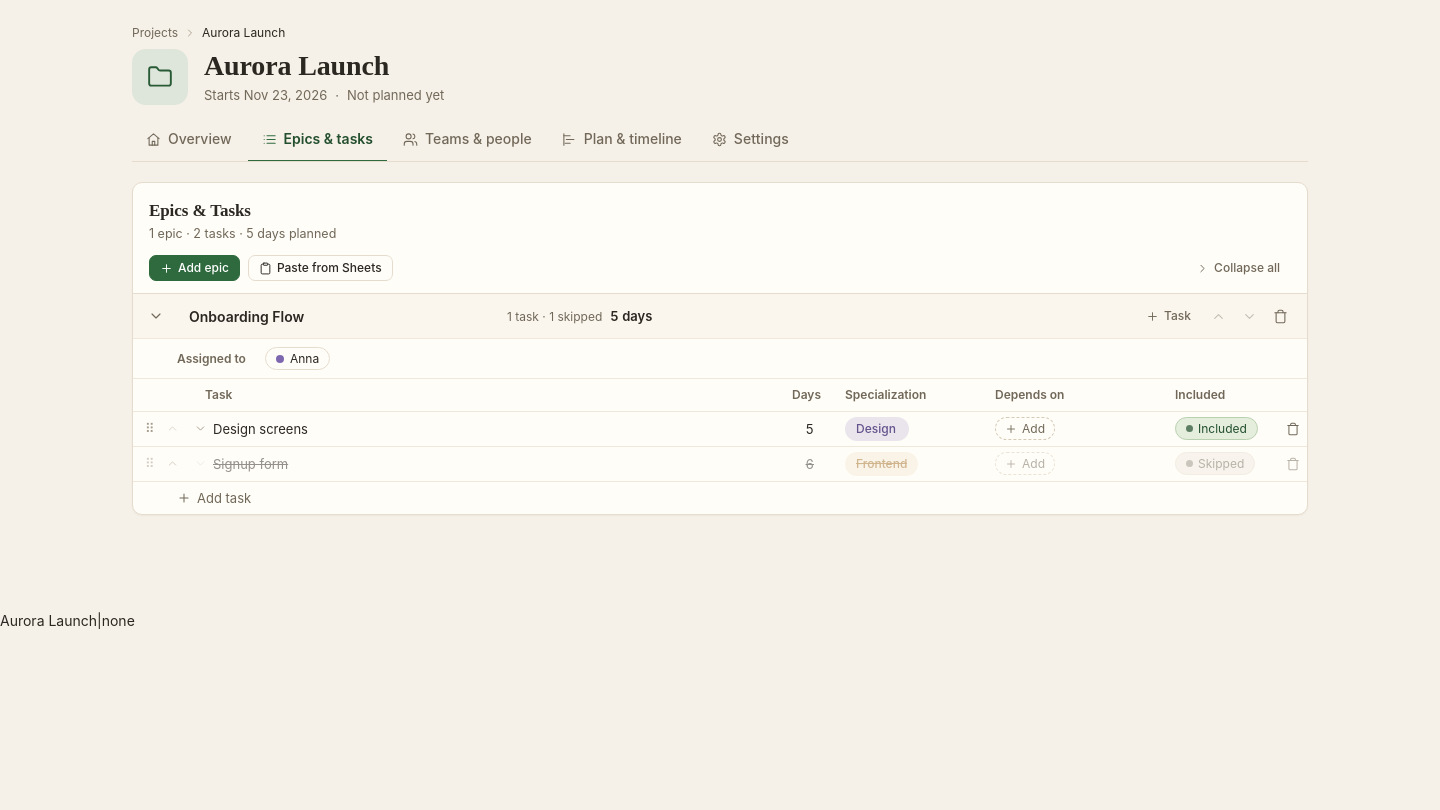
Test: ProjectDetail › opens the paste import from the task editor
The image size is (1440, 810).
Click the button "Paste from Sheets". click: (320, 268)
box: [248,256,393,282]
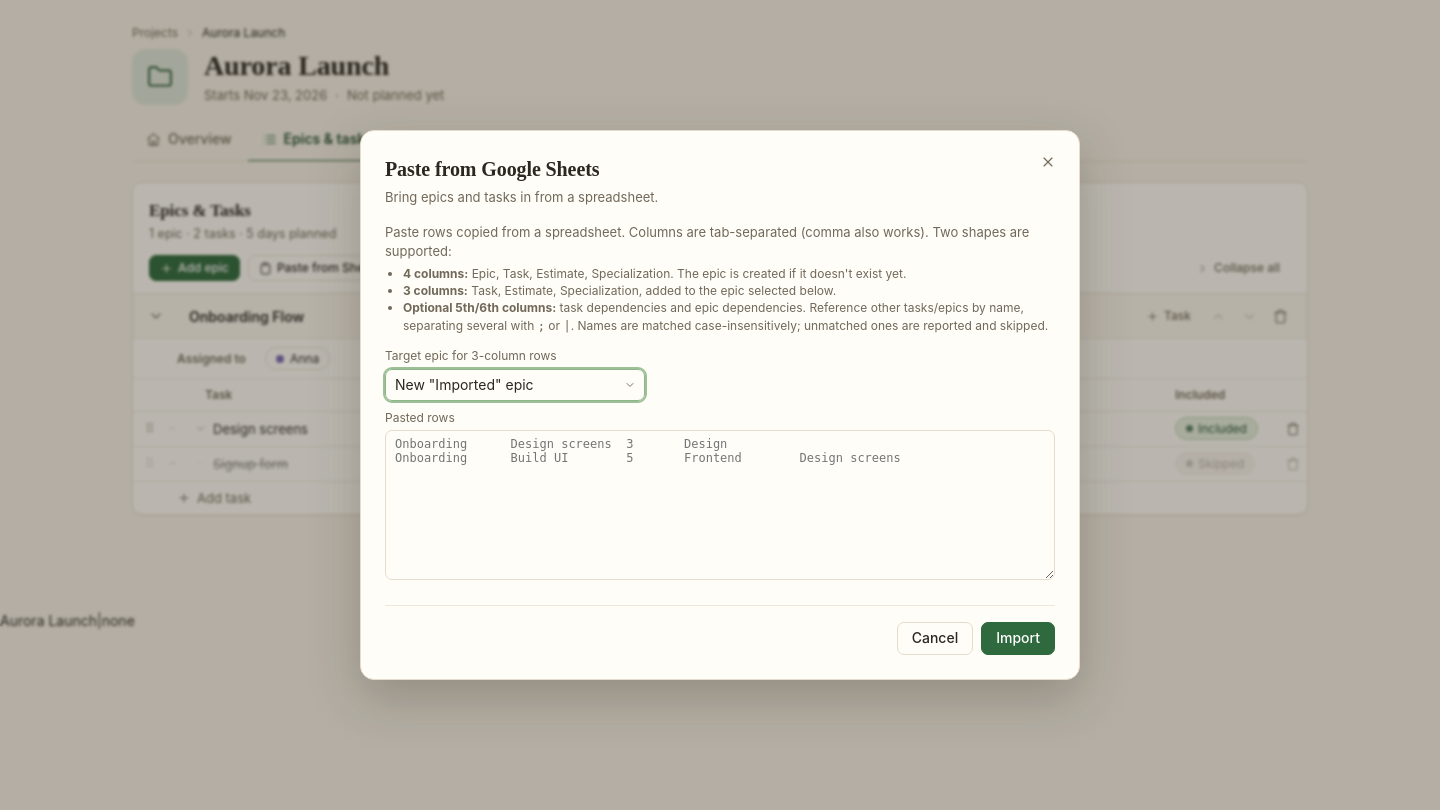
Expected: the text box labelled "Pasted rows" is shown, [385,430,1055,580]
